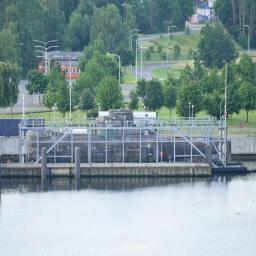submarine: (27, 109, 222, 157)
